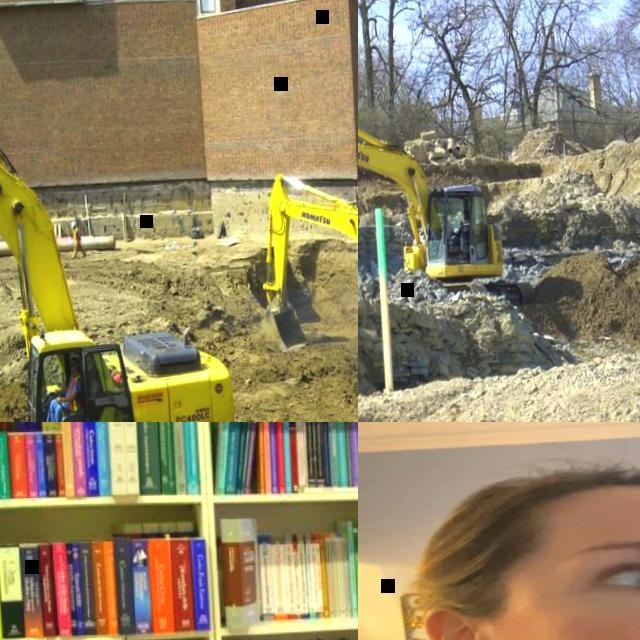Hardhat: (69, 220, 75, 227)
NO-Hardhat: (431, 454, 640, 532), (69, 356, 77, 361)
NO-Mask: (69, 365, 76, 371)
Person: (358, 445, 640, 640), (35, 355, 81, 422), (69, 219, 85, 257)
Safety Vest: (62, 374, 80, 411), (72, 227, 78, 240)
machinery: (0, 45, 236, 422), (358, 95, 533, 307), (254, 160, 358, 386)
